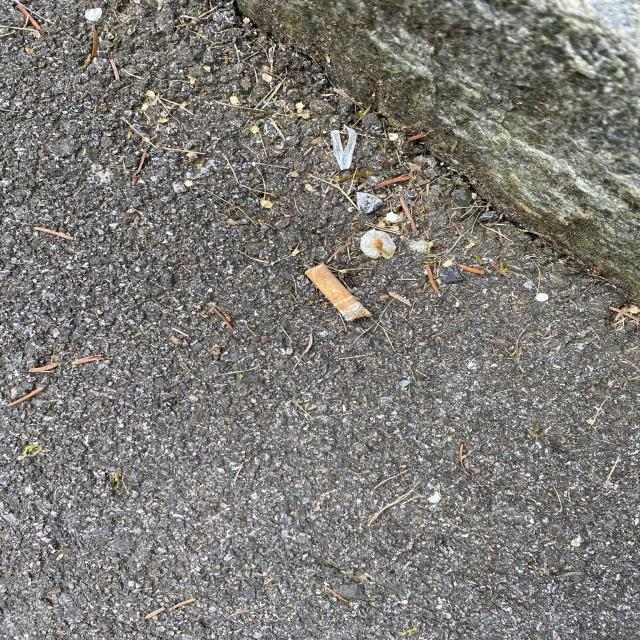other waste: (303, 263, 373, 322)
